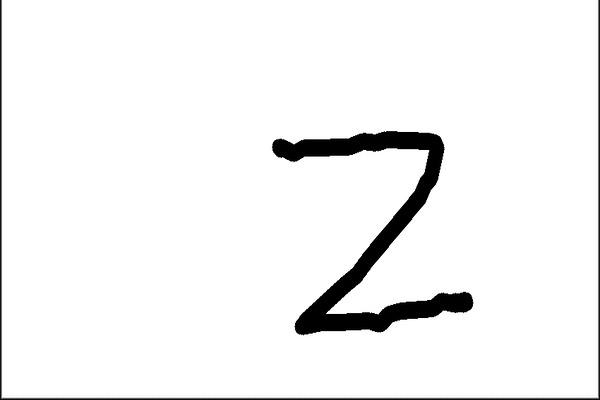Z: (259, 124, 480, 346)
